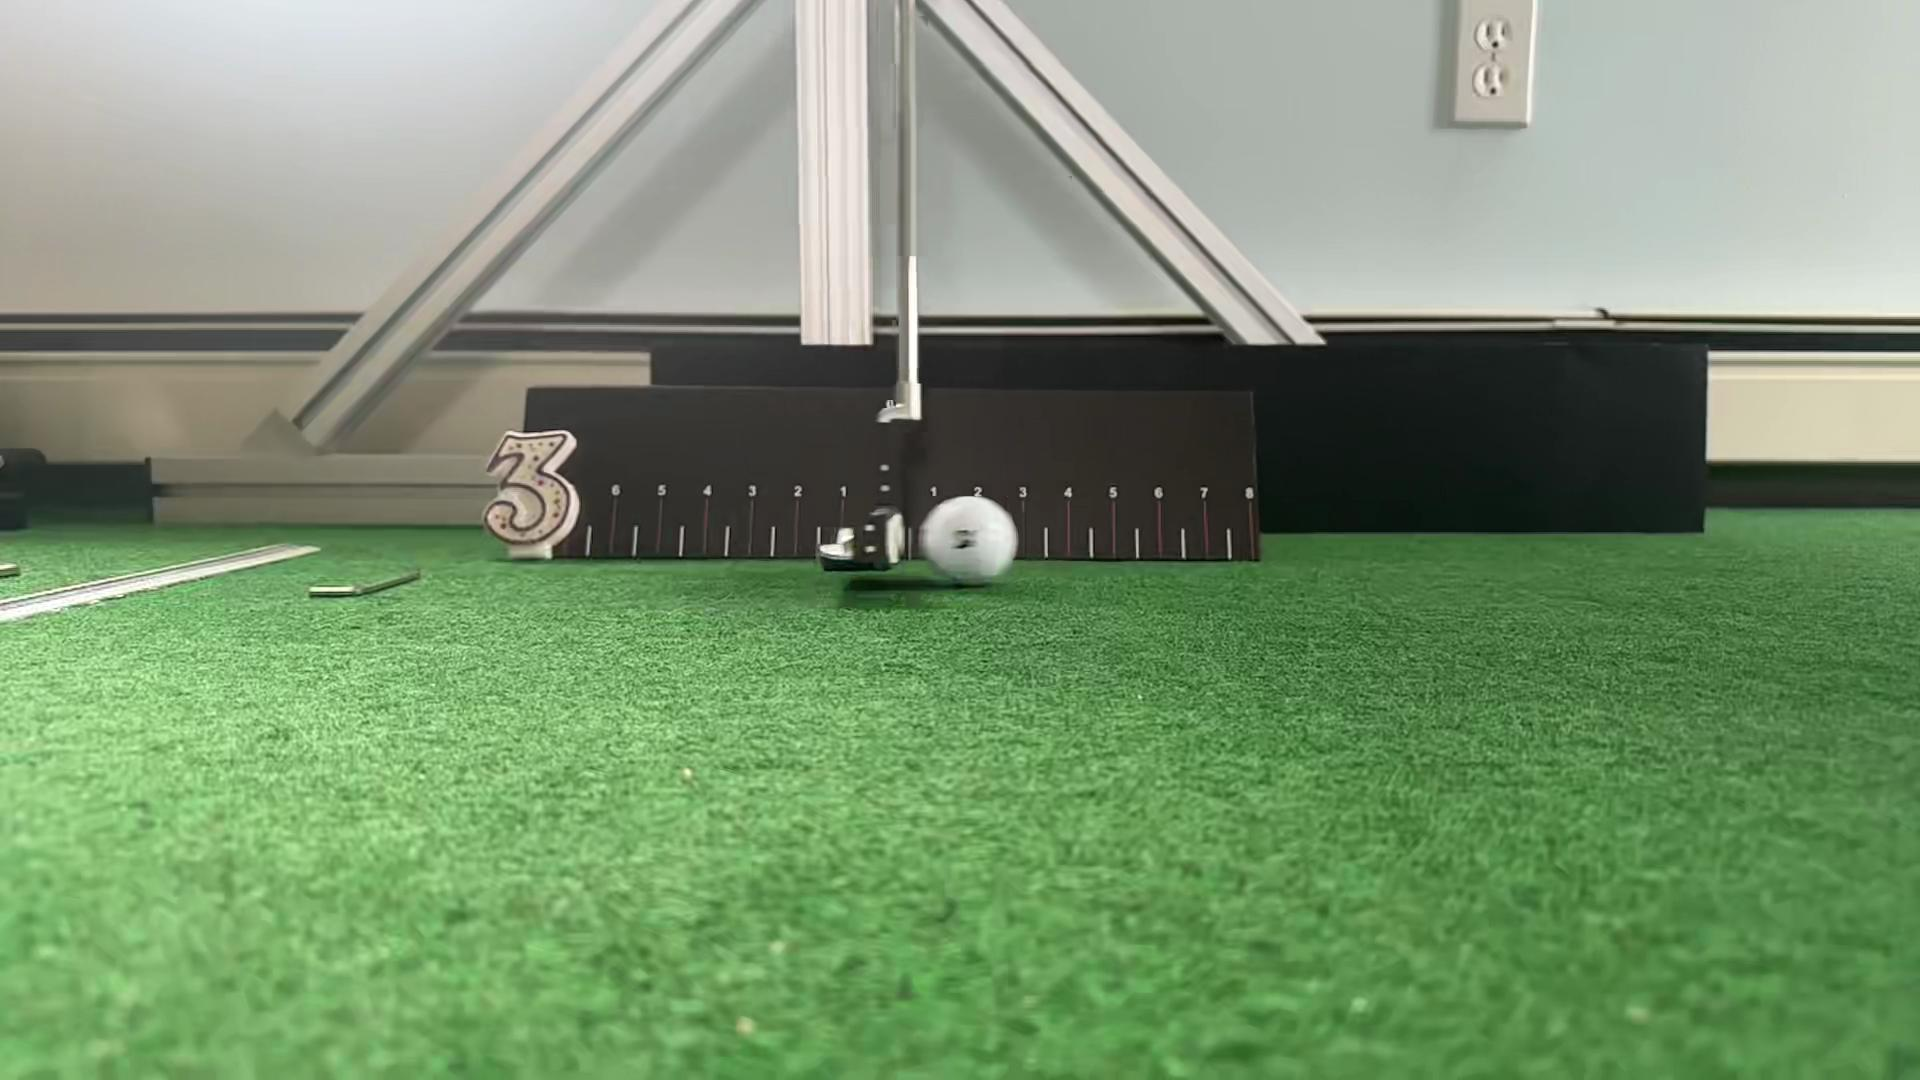golfball: (920, 495, 1018, 586)
